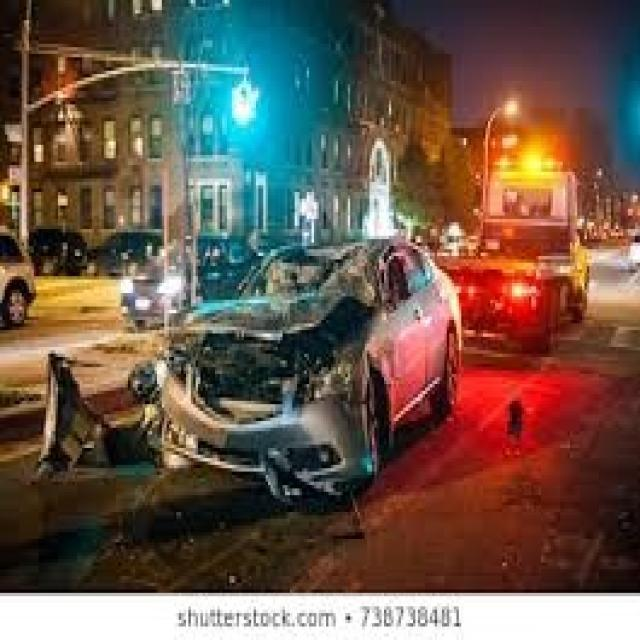accident: (127, 186, 426, 513)
